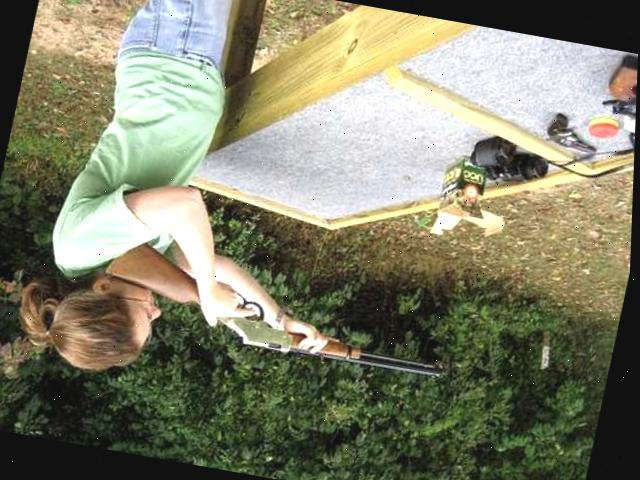rifle: (68, 201, 484, 412)
